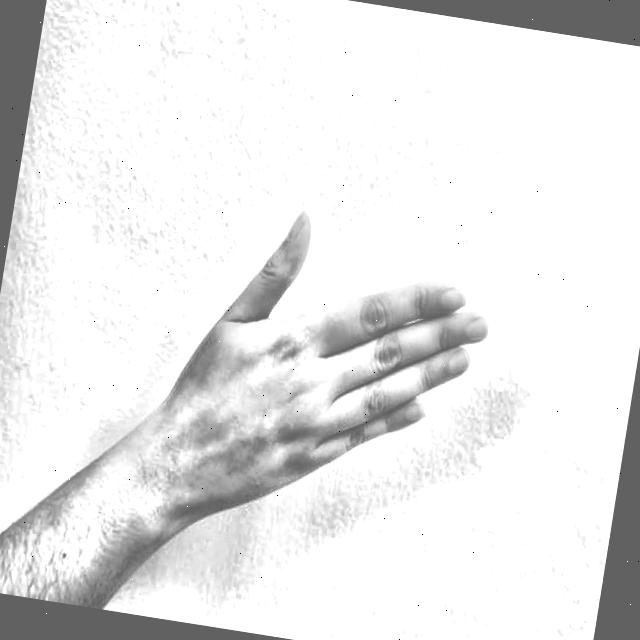Aa: (137, 119, 542, 587)
